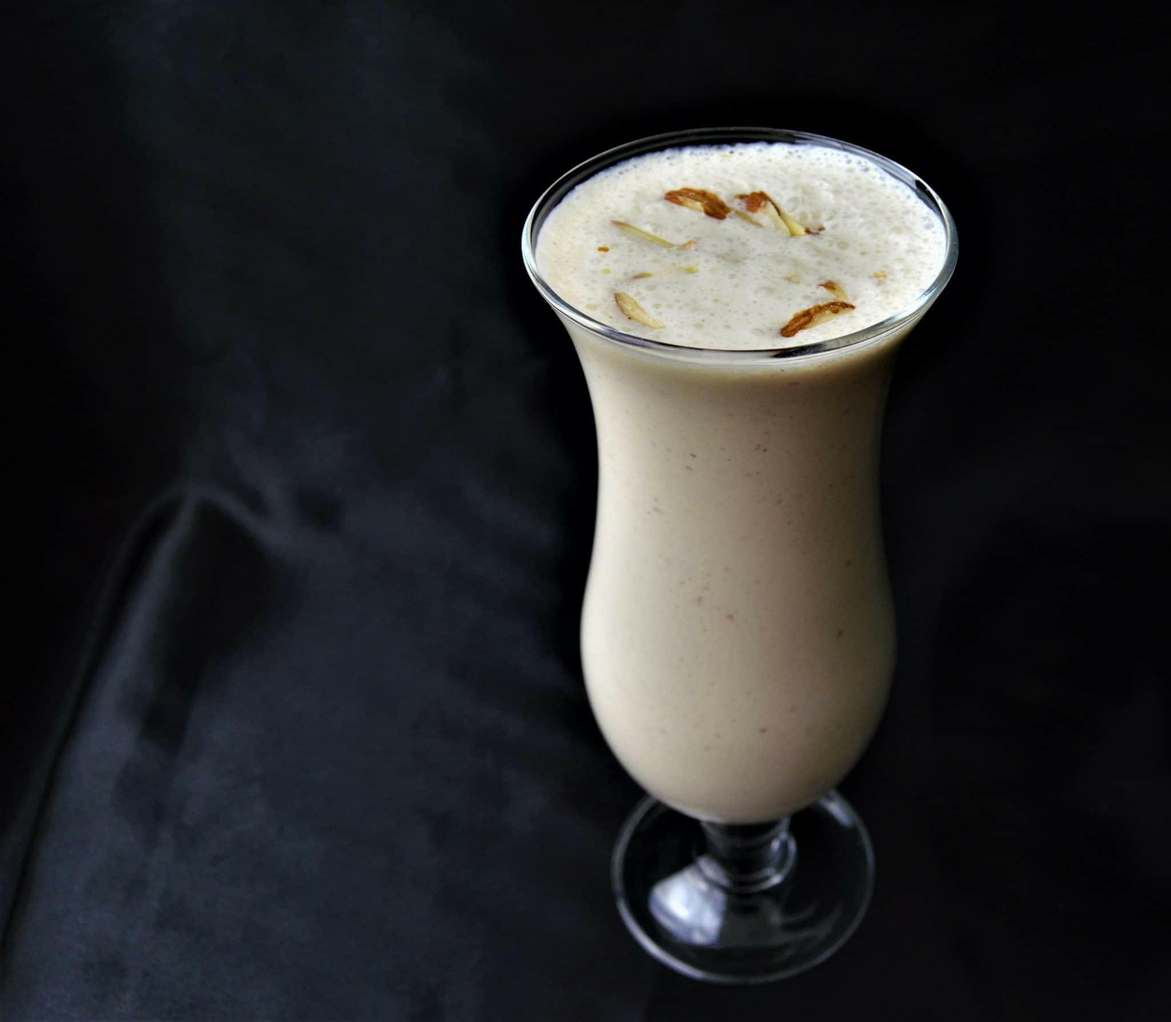Lassi: (530, 139, 969, 842)
